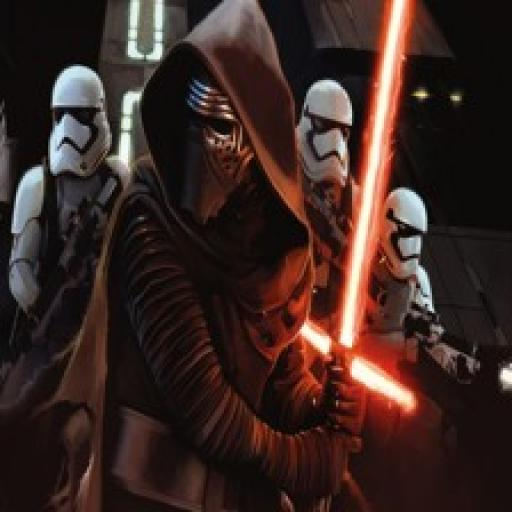human: (102, 2, 364, 512)
sith saber: (267, 0, 433, 512)
